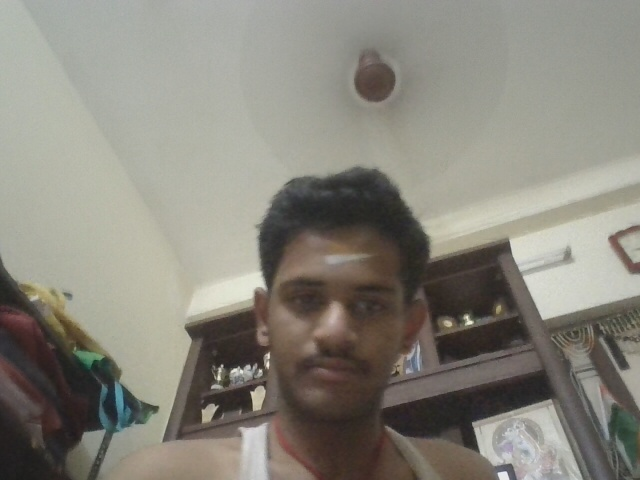real: (250, 233, 423, 406)
